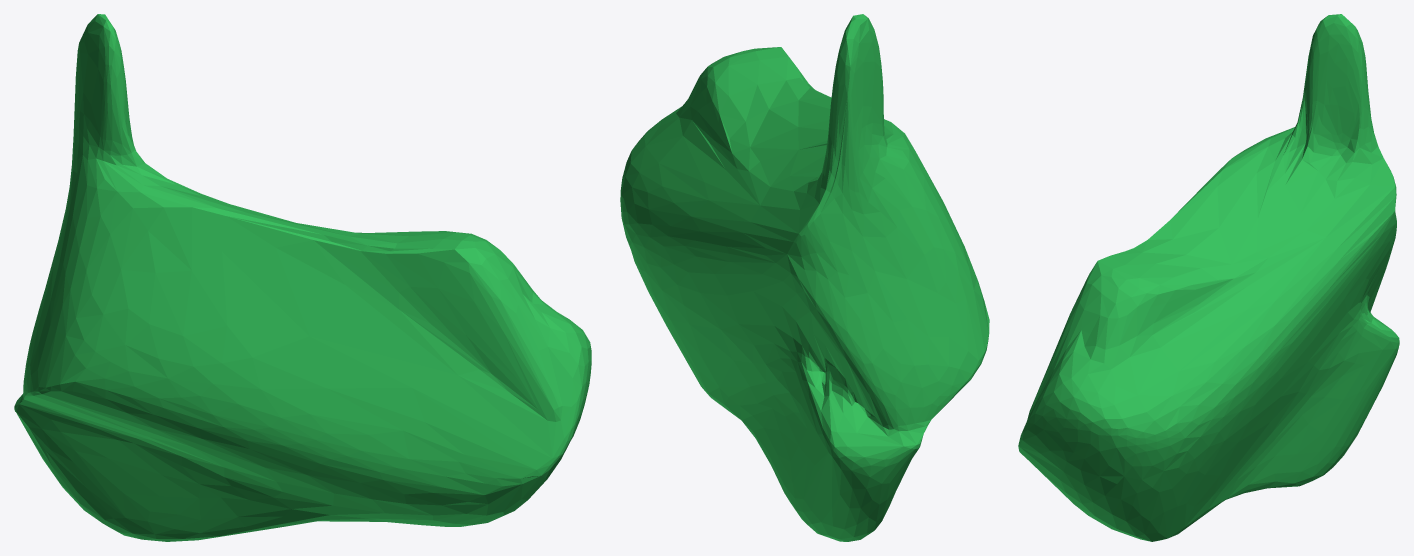
3 views of the same model, side by side, from view 1: azimuth 30°, elevation 25°; view 2: azimuth 150°, elevation 25°; view 3: azimuth 270°, elevation 25° (orthographic). The views are drawn at different scales.
Visible parts, largest first — view 1: 361_Cube.1475; view 2: 361_Cube.1475; view 3: 361_Cube.1475.
Part boxes in pixels (x1,y1,x2,y2): 361_Cube.1475: (14,14,591,541); 361_Cube.1475: (620,14,989,541); 361_Cube.1475: (1018,14,1399,541).
Bounding box in the file's own units: 10.92 × 12.29 × 9.59.
